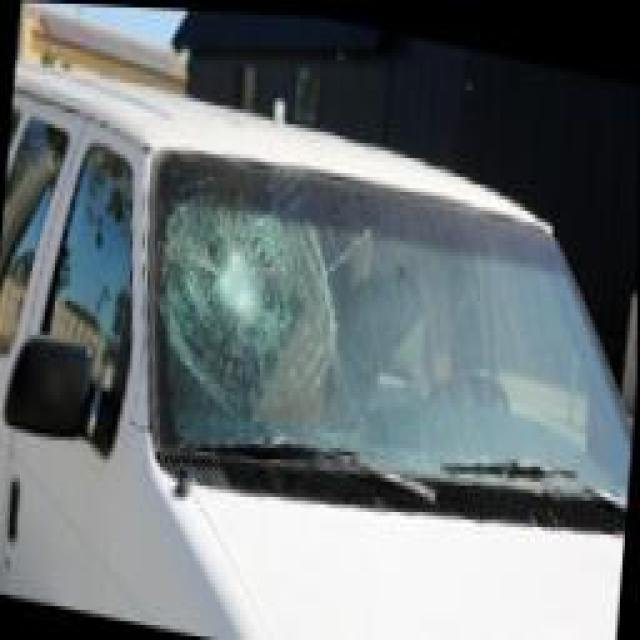Windshield: (158, 148, 631, 487)
